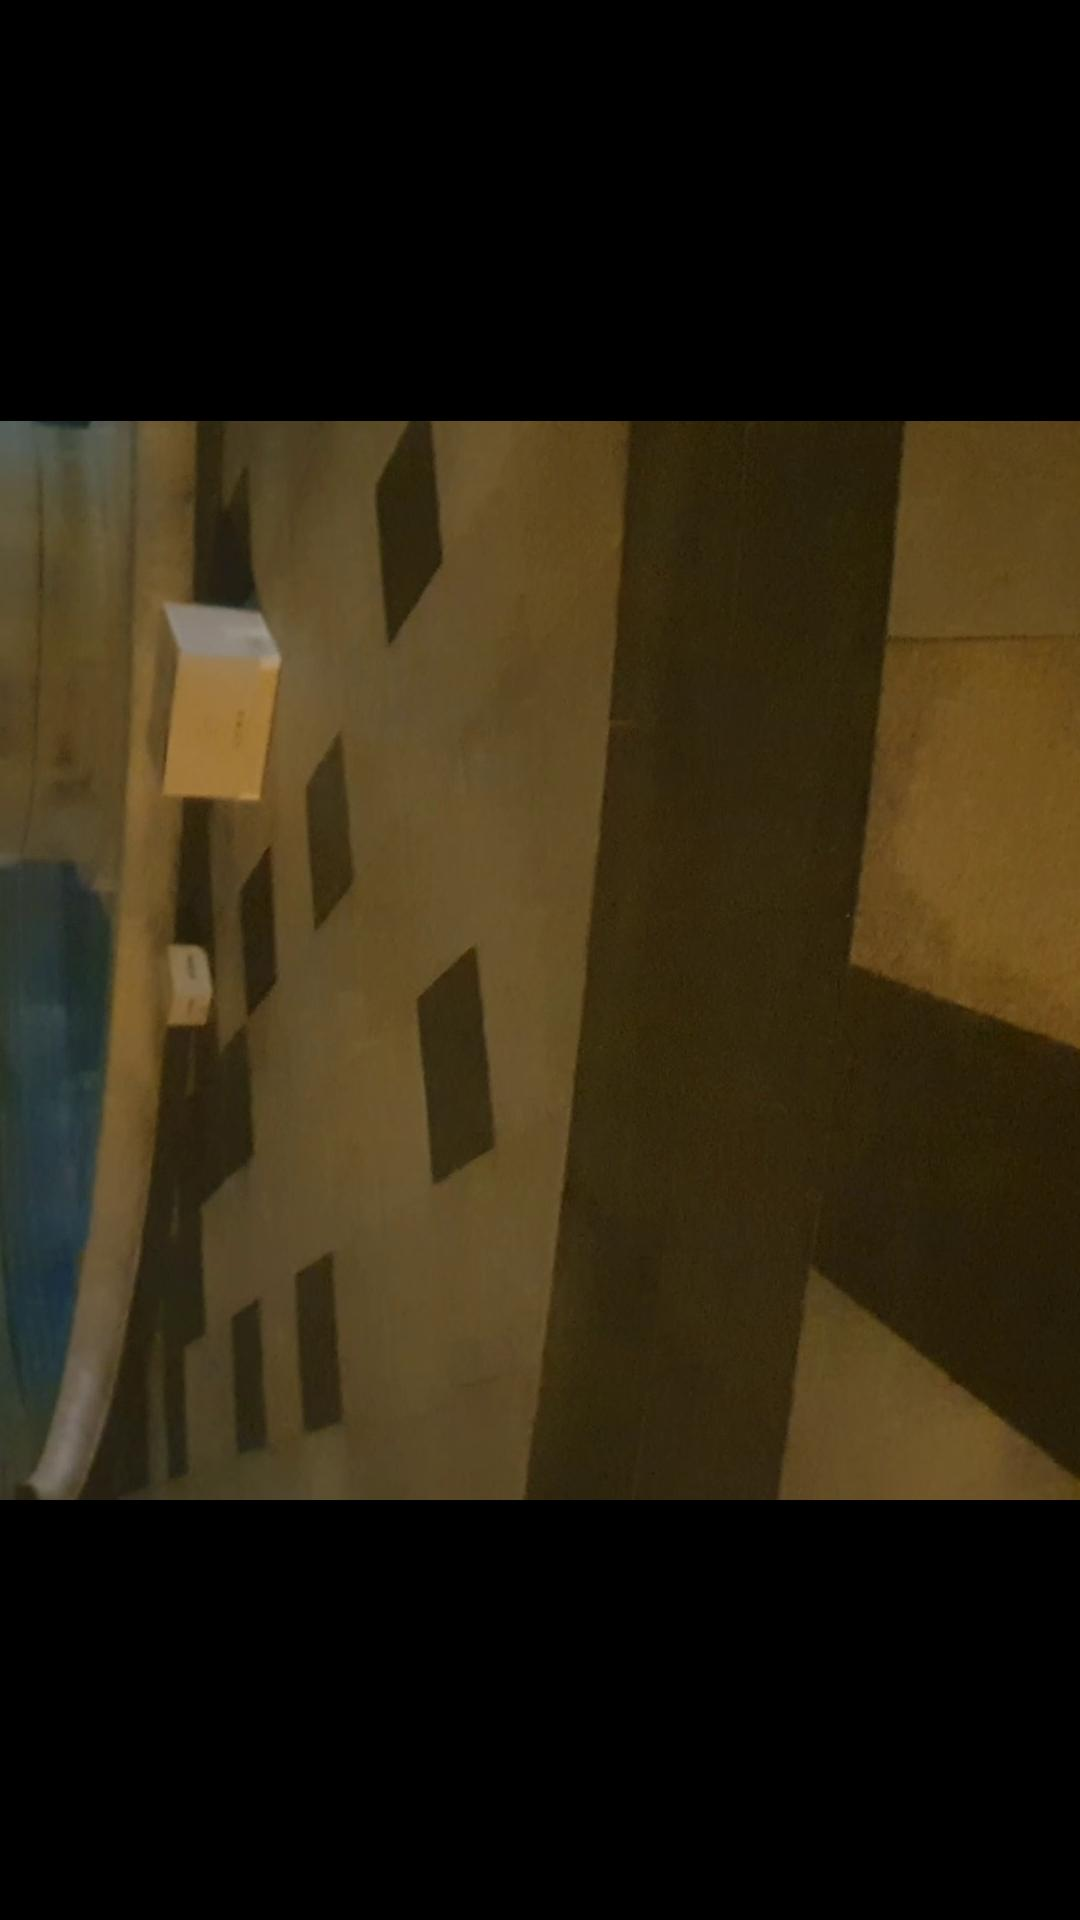Box: (142, 593, 295, 808), (153, 935, 220, 1036)
